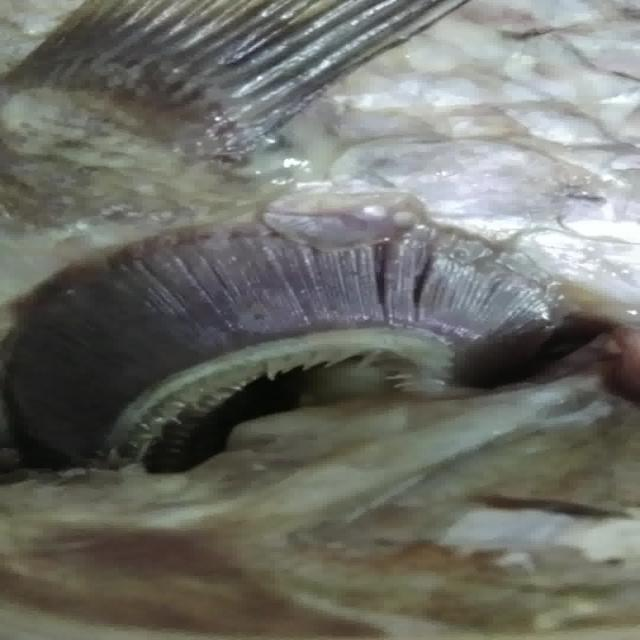Non-Fresh: (12, 205, 575, 421)
